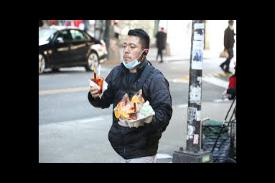mask_weared_incorrect: (118, 39, 142, 69)
